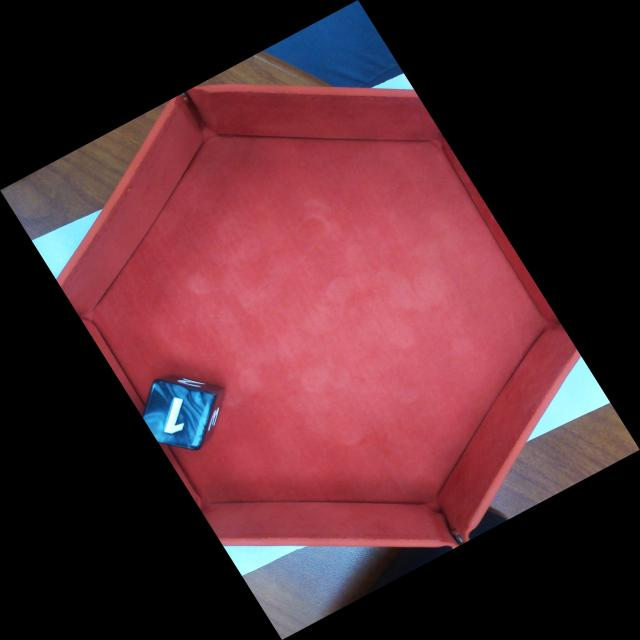dice: (142, 381, 213, 445)
